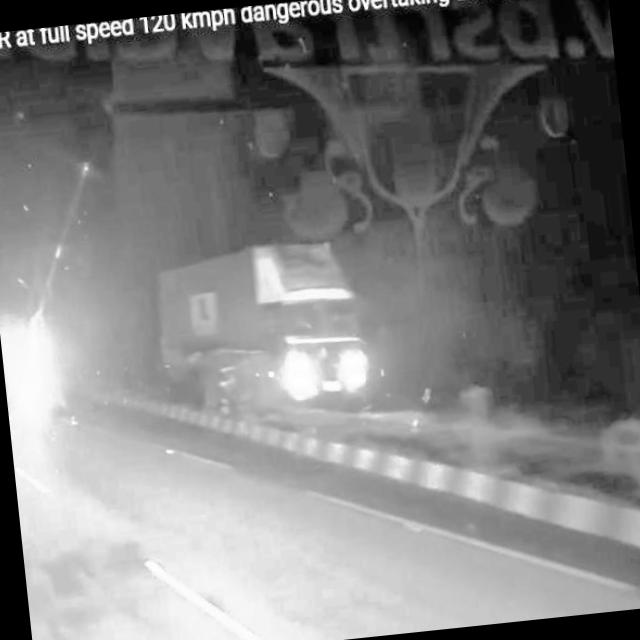Truck: (148, 231, 388, 430)
